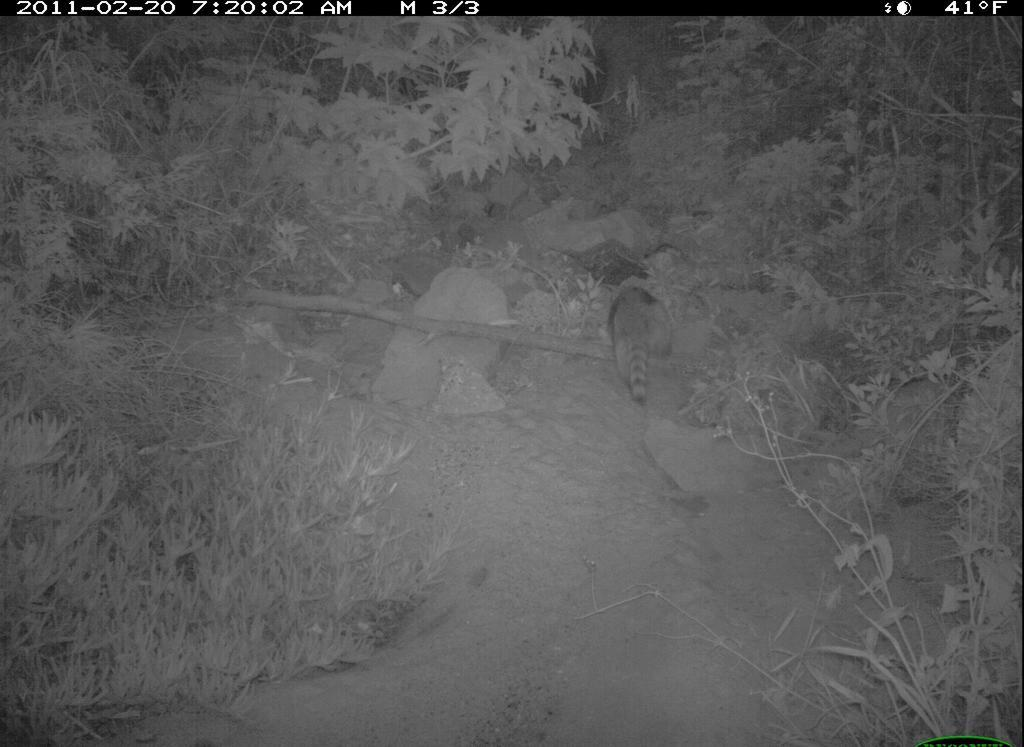raccoon: (606, 286, 681, 404)
